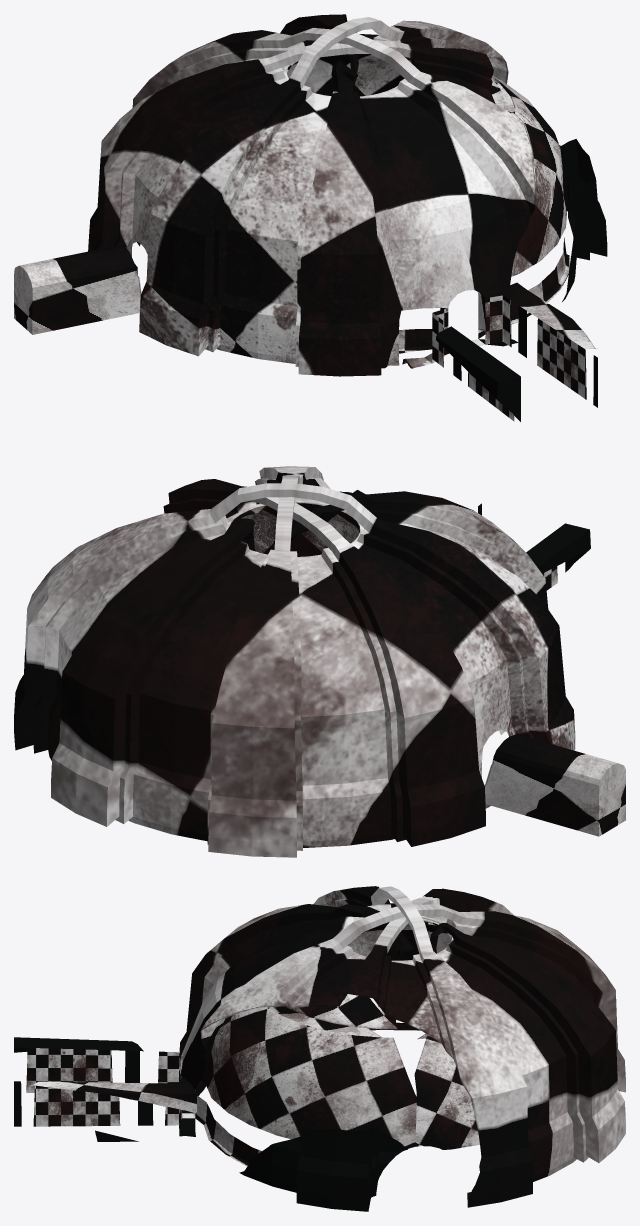
Rendered from Wall+Ceiling.fbx.
3 renders of one model, top to bottom at view 1: azimuth 30°, elevation 25°; view 2: azimuth 150°, elevation 25°; view 3: azimuth 270°, elevation 25°, orthographic. The views are drawn at different scales.
Visible parts, largest first — view 1: Wall_Ceiling; view 2: Wall_Ceiling; view 3: Wall_Ceiling.
Boxes of the visible parts, left/top/right/bottom form: Wall_Ceiling: left=14, top=14, right=607, bottom=421; Wall_Ceiling: left=14, top=466, right=625, bottom=857; Wall_Ceiling: left=14, top=886, right=625, bottom=1211.
Bounding box in the file's own units: 3786 × 1629 × 4155.
1 material, 1 textured.
